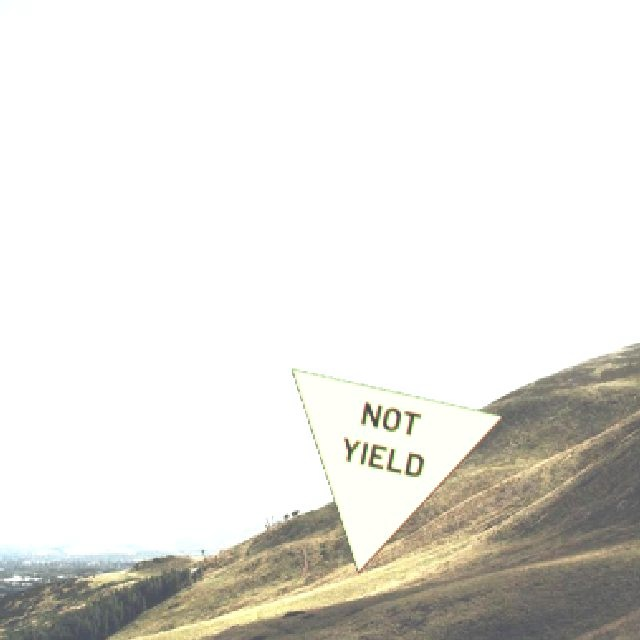NOT_YIELD: (289, 368, 503, 574)
